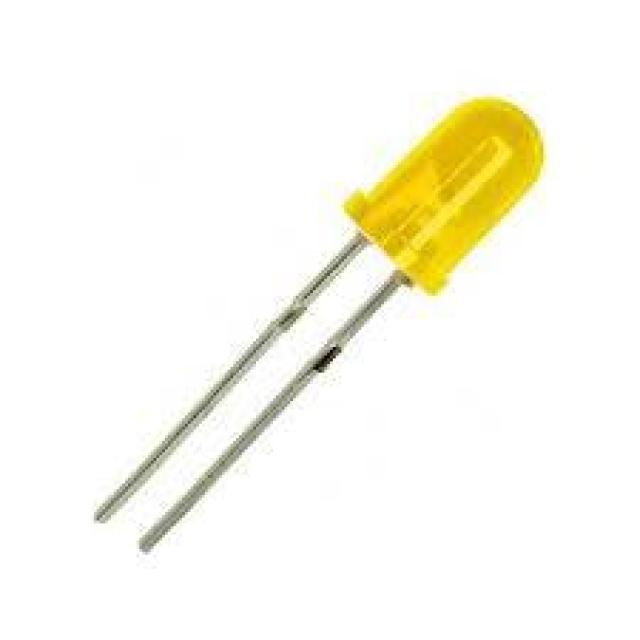Led: (96, 98, 541, 551)
